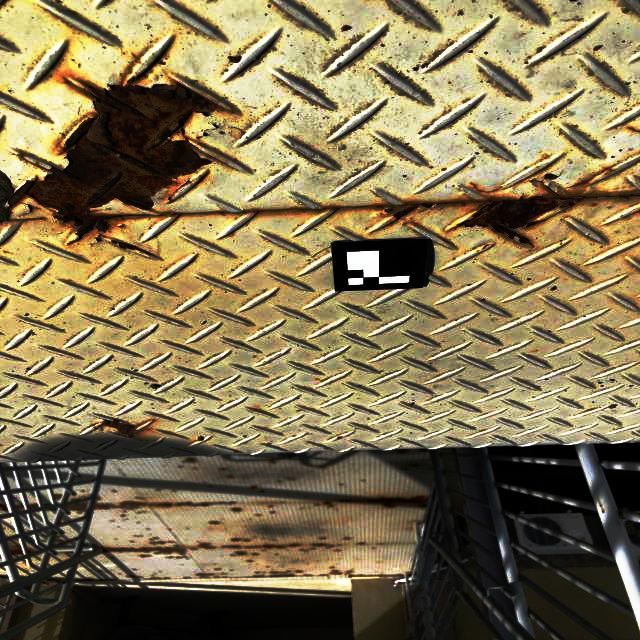Corrosion: (0, 71, 220, 238), (457, 181, 585, 247), (94, 497, 235, 511), (373, 201, 453, 225), (101, 544, 187, 556), (367, 494, 429, 509), (102, 418, 147, 438), (109, 239, 152, 254), (165, 179, 193, 202), (244, 543, 303, 550), (65, 501, 87, 513), (10, 544, 25, 555), (76, 578, 116, 582), (197, 542, 215, 550), (311, 543, 335, 549), (149, 537, 167, 545), (194, 573, 214, 578), (0, 501, 8, 513), (323, 500, 334, 508), (71, 496, 88, 501), (232, 551, 246, 557), (26, 545, 36, 553), (270, 570, 290, 574), (16, 503, 26, 511), (269, 574, 295, 577), (222, 545, 241, 549), (231, 538, 250, 542), (43, 579, 61, 583), (185, 457, 197, 463), (339, 499, 356, 503), (127, 575, 143, 579), (208, 520, 220, 525), (284, 476, 296, 481), (54, 494, 62, 501), (331, 570, 342, 575), (29, 503, 38, 509), (232, 507, 242, 512), (226, 474, 234, 479), (299, 548, 308, 552), (250, 485, 257, 490), (46, 508, 57, 511), (150, 577, 161, 580), (397, 450, 408, 453), (140, 555, 150, 558), (253, 575, 263, 578), (43, 503, 51, 506), (191, 547, 197, 551), (221, 467, 227, 471), (270, 460, 276, 464), (337, 435, 343, 439), (357, 542, 365, 545), (233, 450, 240, 453), (345, 537, 351, 540), (184, 577, 191, 579), (296, 571, 302, 573)
